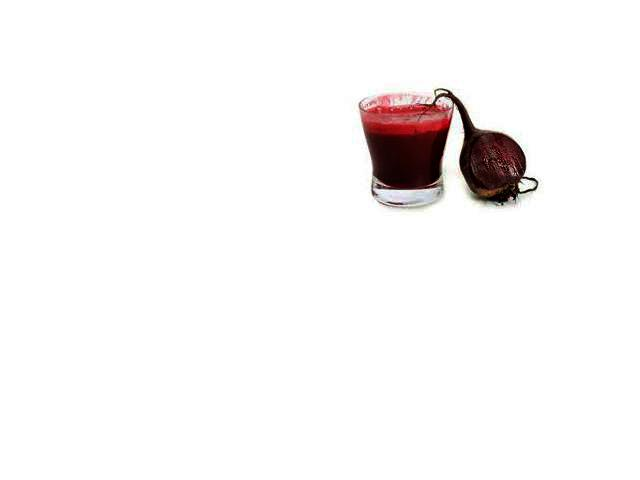beet: (419, 88, 537, 204)
